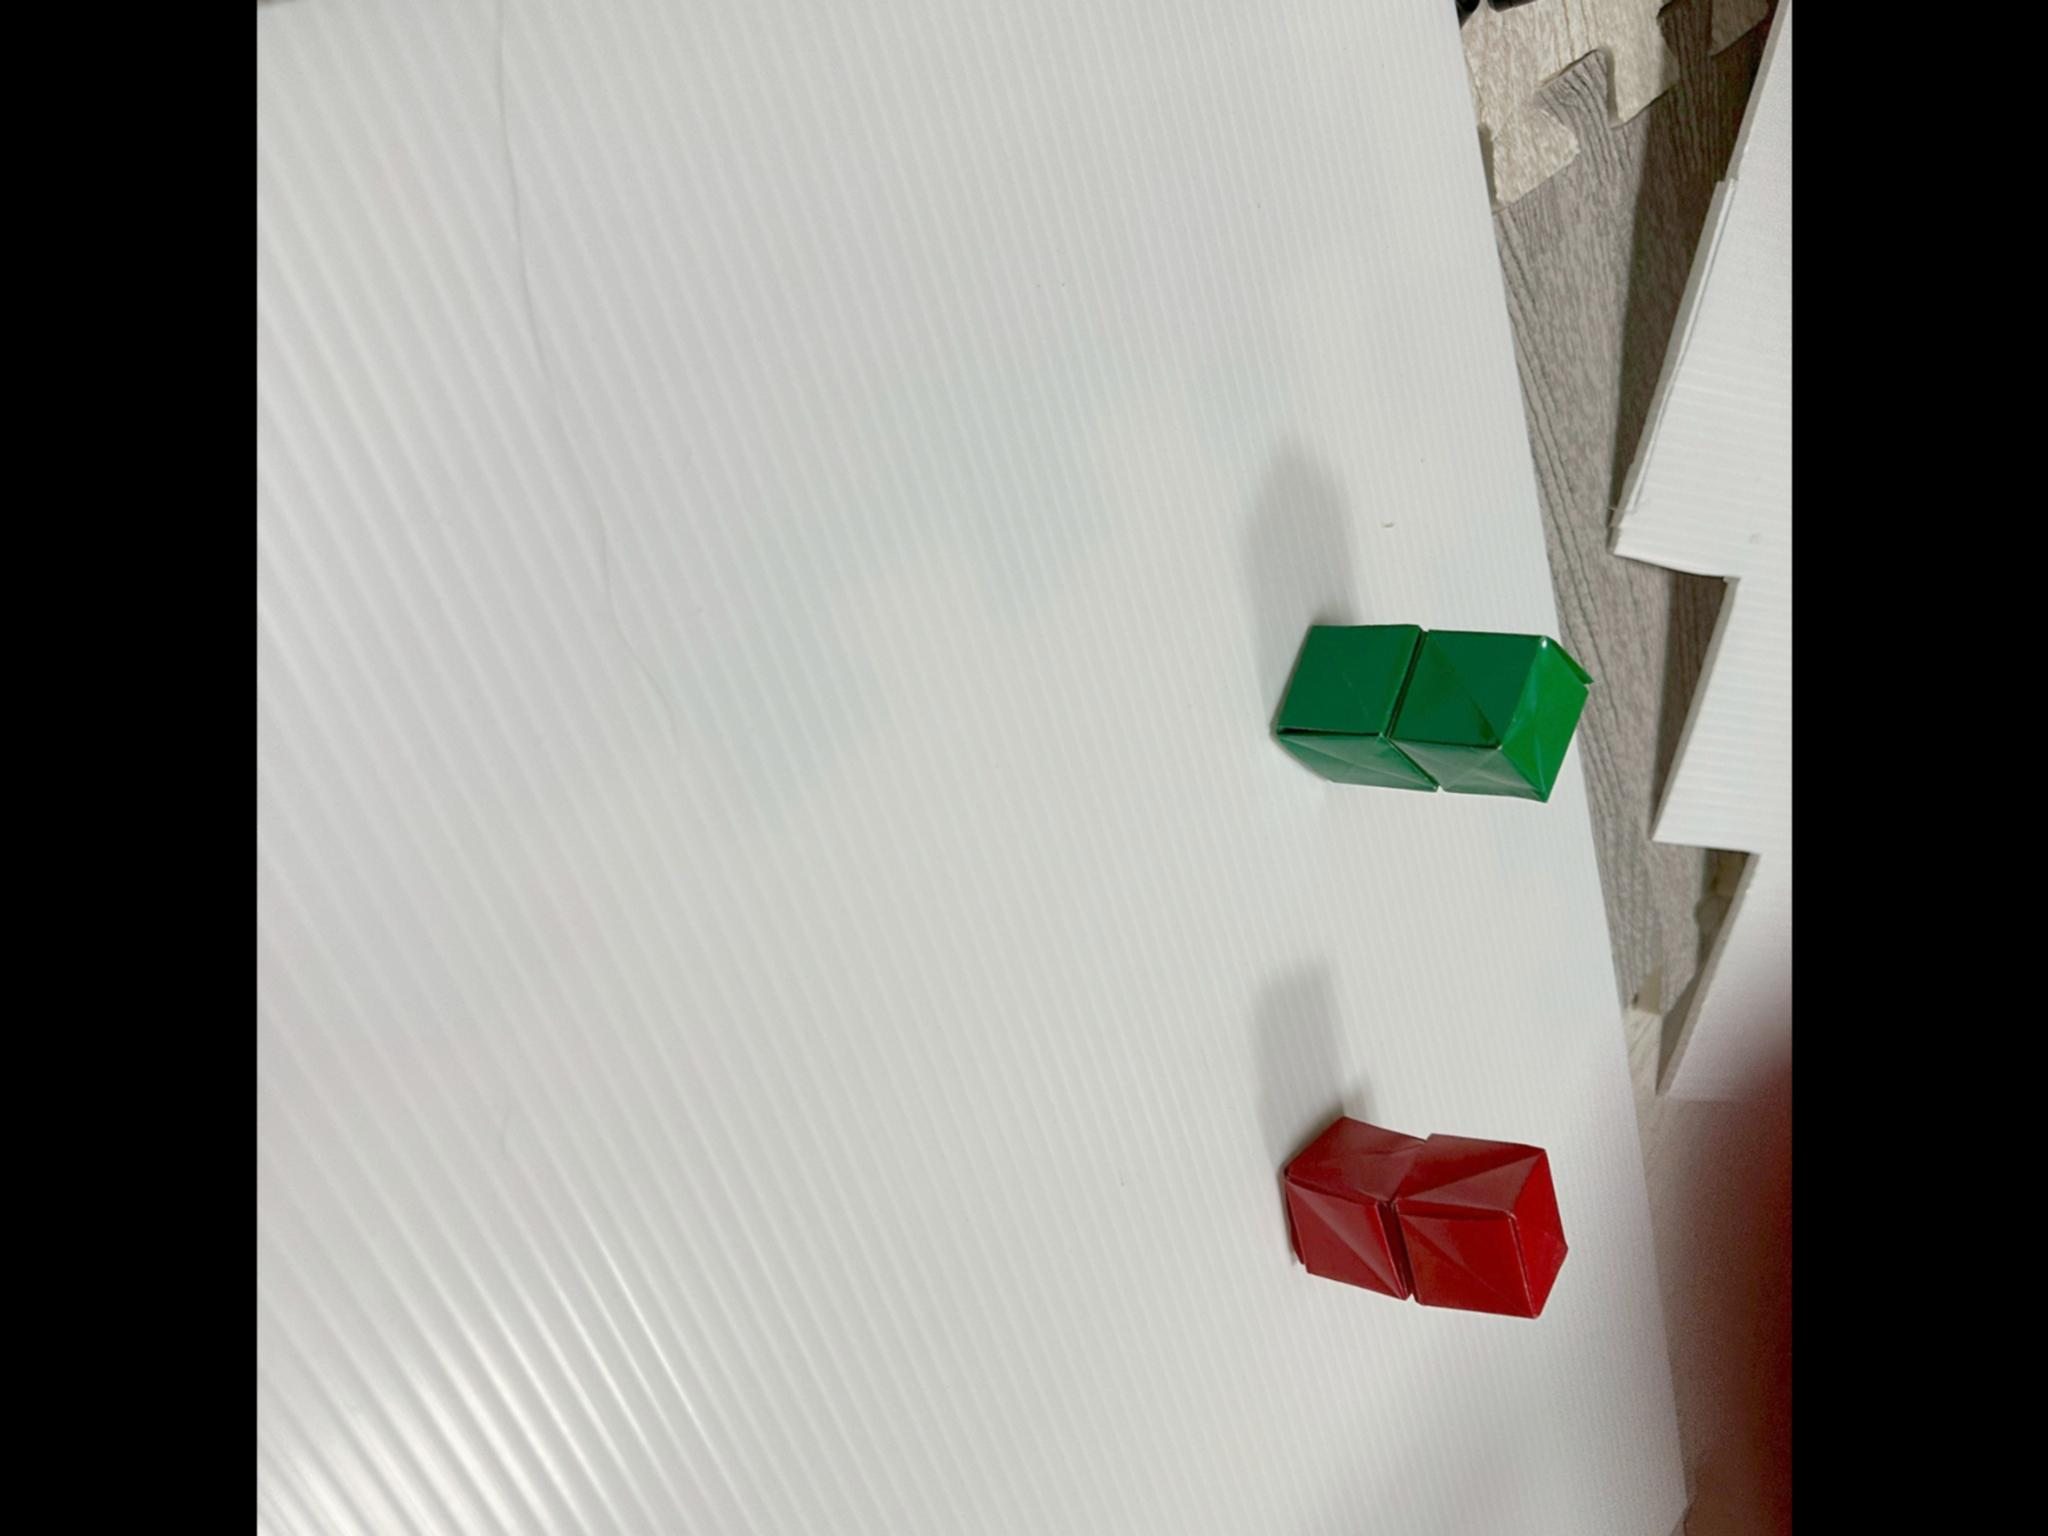base: (1390, 632, 1585, 800), (1395, 1137, 1566, 1317), (1277, 626, 1434, 791), (1284, 1120, 1419, 1299)
